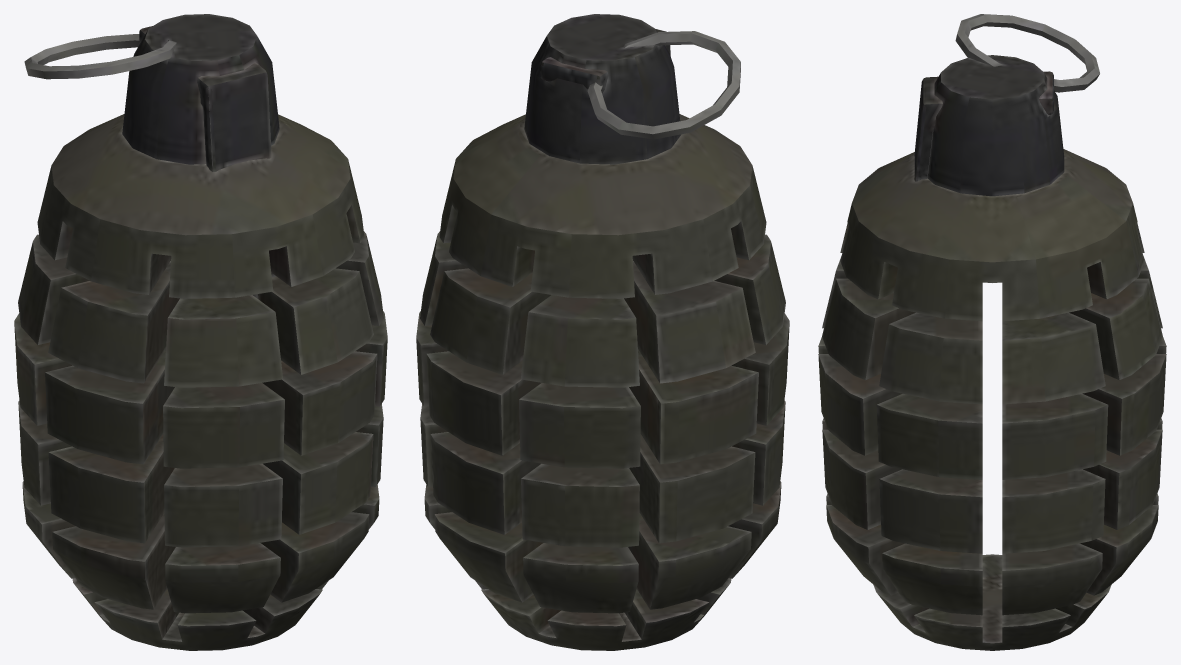
The model's file is levy_frag.glb.
The picture shows the model from 3 angles, left to right: view 1: azimuth 30°, elevation 25°; view 2: azimuth 150°, elevation 25°; view 3: azimuth 270°, elevation 25°; orthographic projection. The views are drawn at different scales.
Parts seen in each view (by area): view 1: levy_frag; view 2: levy_frag; view 3: levy_frag.
Boxes of the visible parts, x1,y1,x2,y2 form: levy_frag: (14, 14, 387, 650); levy_frag: (416, 14, 789, 650); levy_frag: (818, 14, 1166, 650).
Bounding box in the file's own units: 0.0628 × 0.1121 × 0.0628.
1 material, 1 textured.
